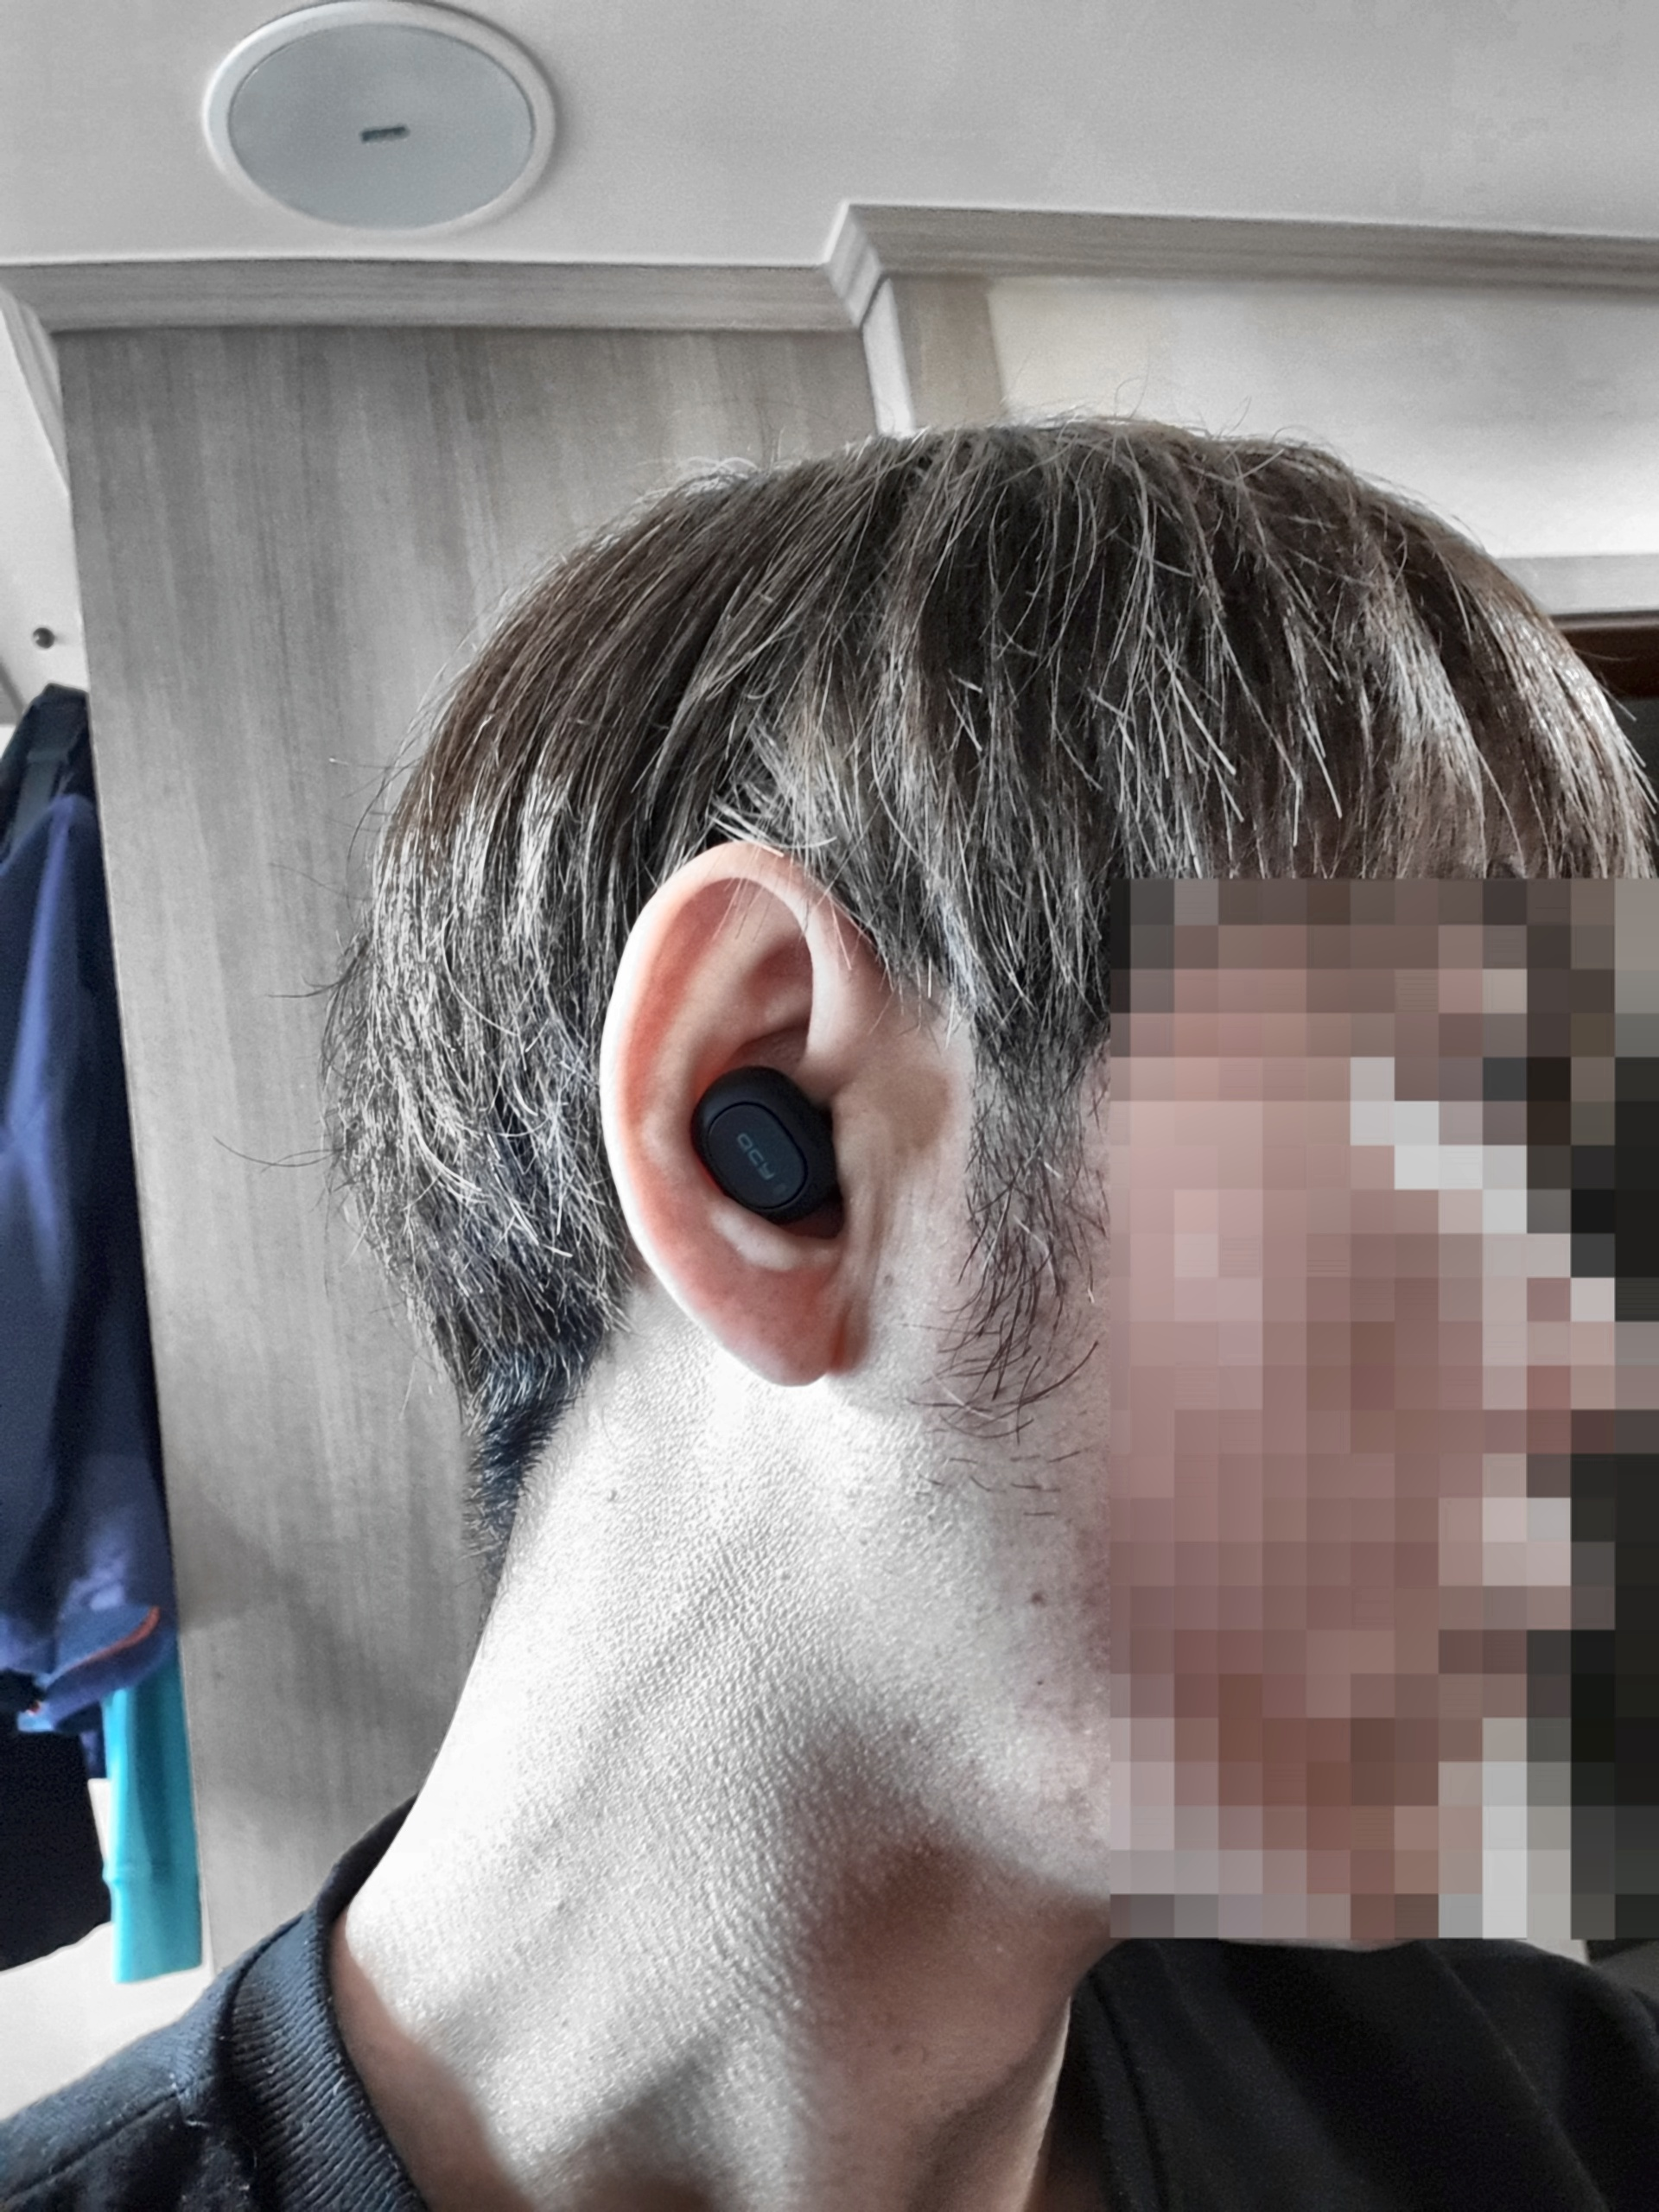earphone: (601, 840, 882, 1383)
